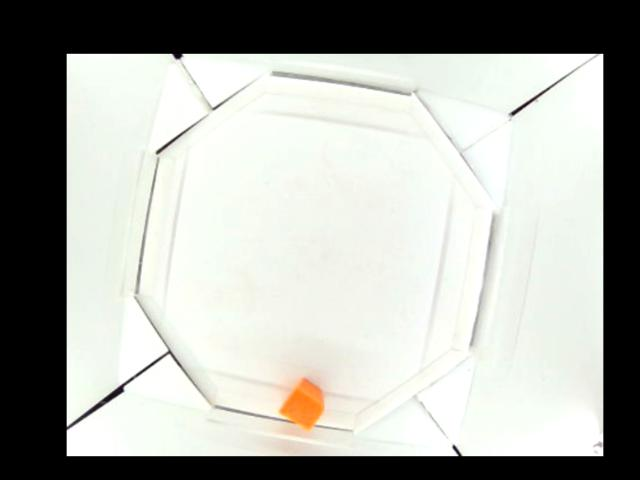Carrot: (278, 380, 326, 431)
